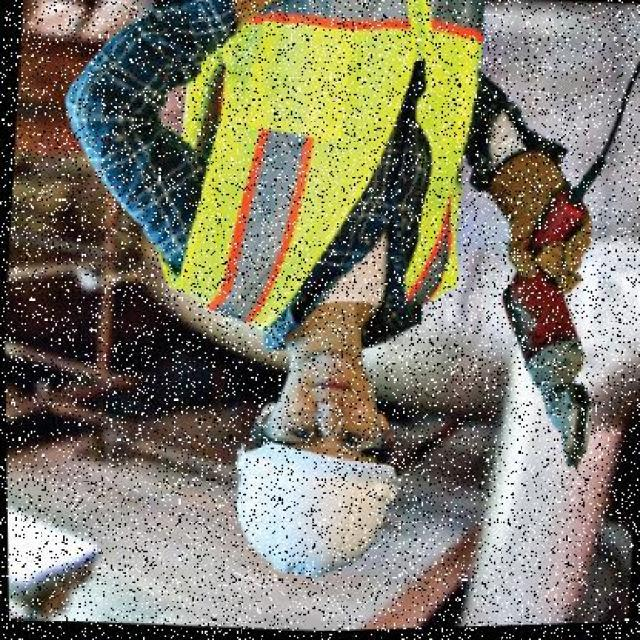helmet: (211, 419, 409, 587)
vest: (151, 0, 492, 350)
